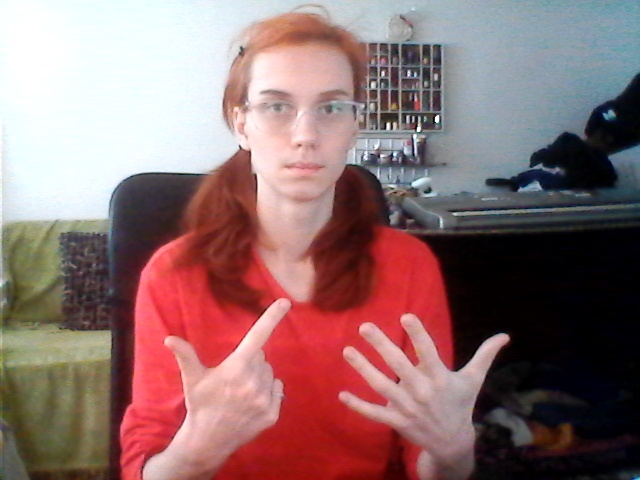sedem: (168, 297, 510, 444)
